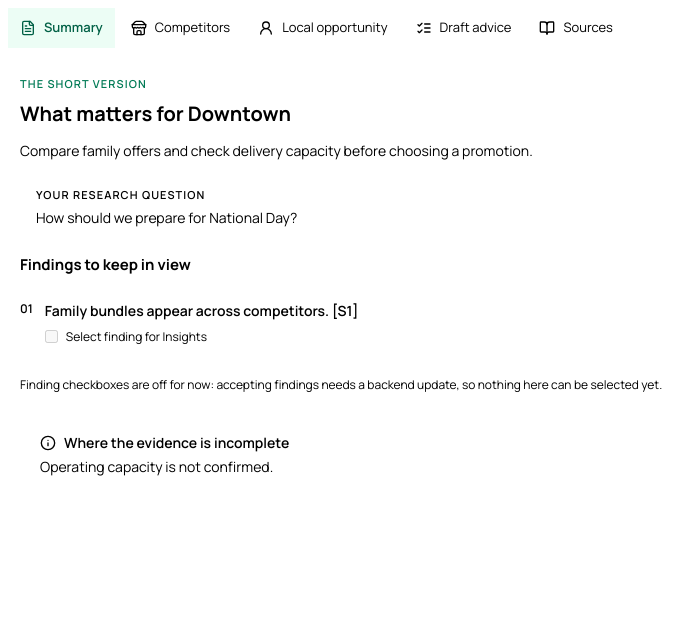
Test: ReportReaderView acceptance › previews type-derived destinations with a local summary and no writes
Click the button "Draft advice". click: point(464, 28)
box: [404,8,524,48]
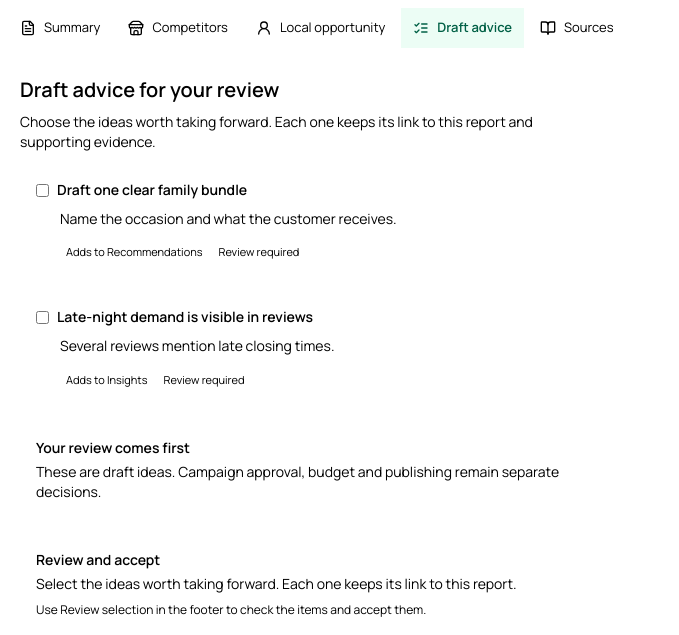
Expected: the text "Adds to Recommendations" is shown, [60,242,208,263]
Expected: the text "Adds to Insights" is shown, [60,370,154,390]
Click the checkbox labelled "Draft one clear family bundle". click: point(42, 190)
box: [36,184,49,196]
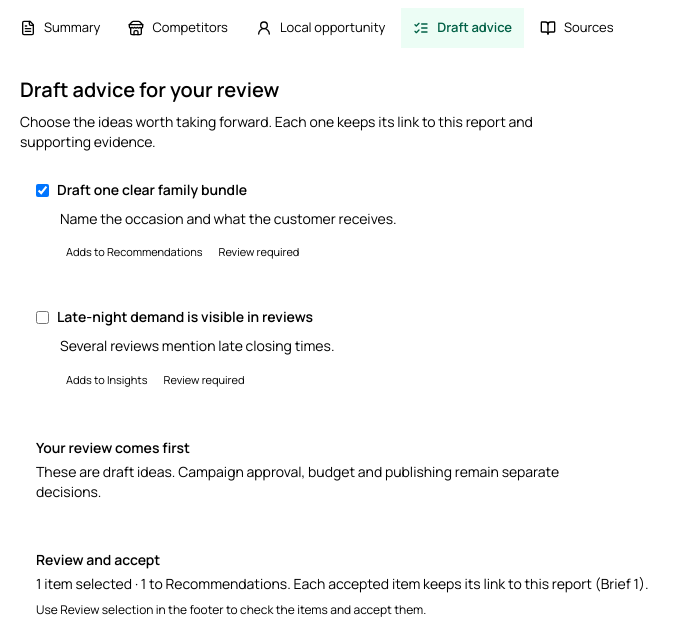
Expected: the text "Use Review selection in the footer" is shown, [36,601,426,618]
Expected: the text "1 to Recommendations" is shown, [132,574,287,593]
Expected: the text "keeps its link to this report (Brief 1)" is shown, [36,574,648,593]
